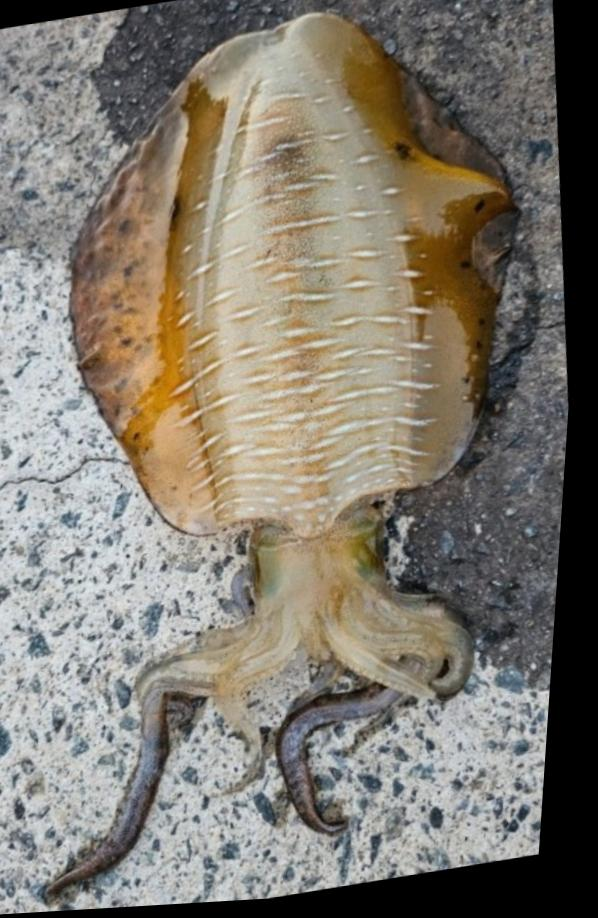Cephalopod: (65, 16, 521, 893)
